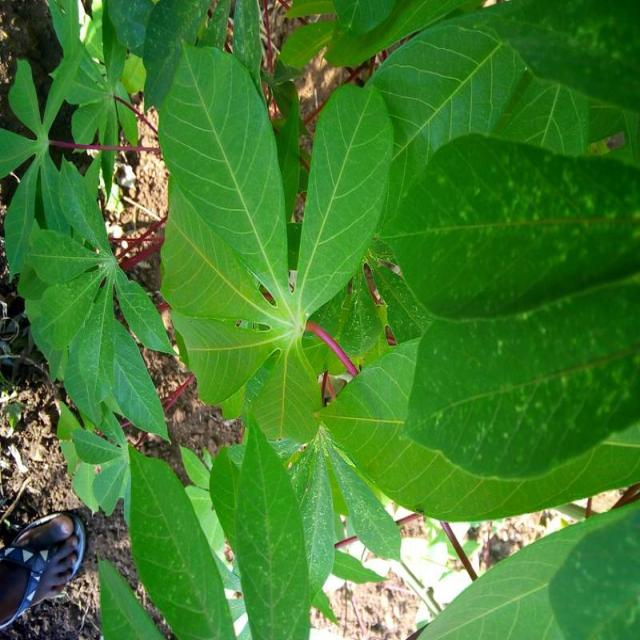cassava leaf: (5, 0, 639, 637), (294, 81, 396, 319)
